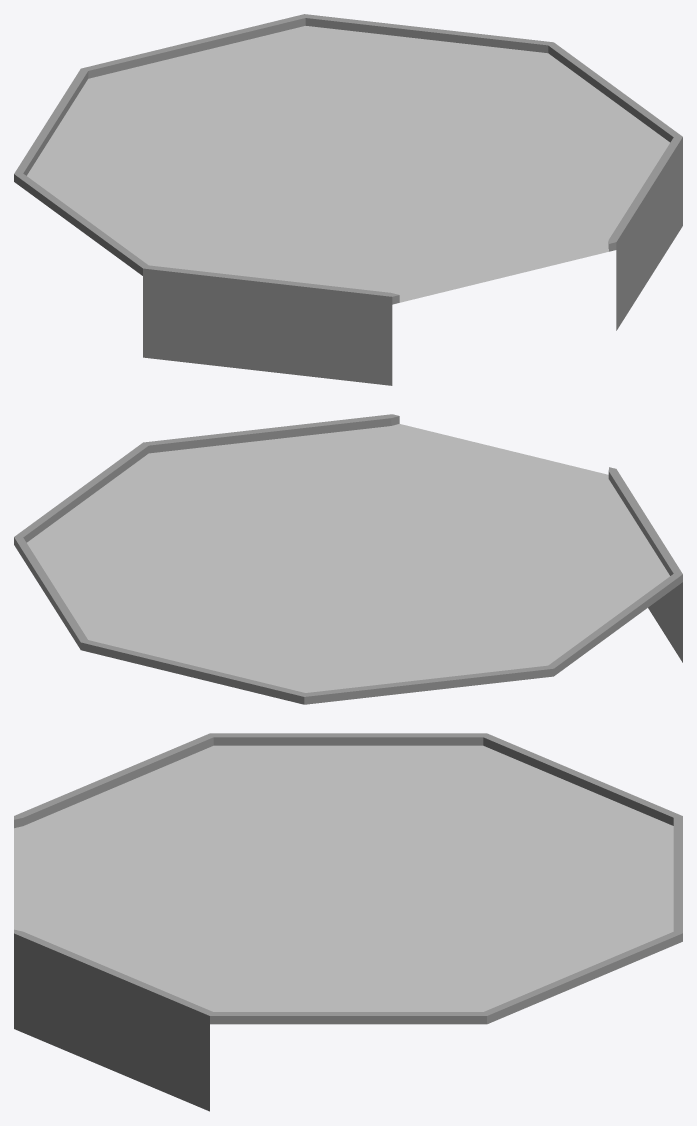
File: Floor_Final.fbx
The picture shows the model from 3 angles, top to bottom: view 1: azimuth 30°, elevation 25°; view 2: azimuth 150°, elevation 25°; view 3: azimuth 270°, elevation 25°; orthographic projection. The views are drawn at different scales.
Parts seen in each view (by area): view 1: Floor_Final; view 2: Floor_Final; view 3: Floor_Final.
Part boxes in pixels (x1,y1,x2,y2): Floor_Final: [14, 14, 682, 385]; Floor_Final: [14, 414, 682, 704]; Floor_Final: [14, 733, 682, 1111].
Bounding box in the file's own units: 72.24 × 11.39 × 72.24.
